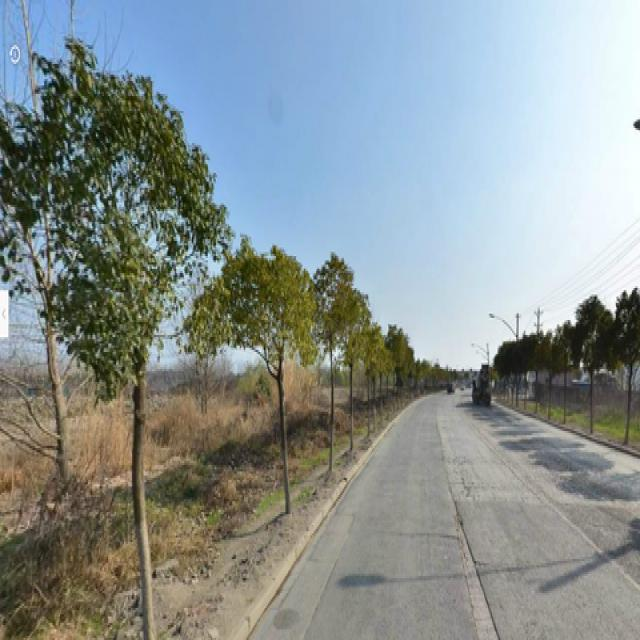cinn: (30, 42, 186, 604), (229, 243, 299, 510), (311, 246, 344, 470)
